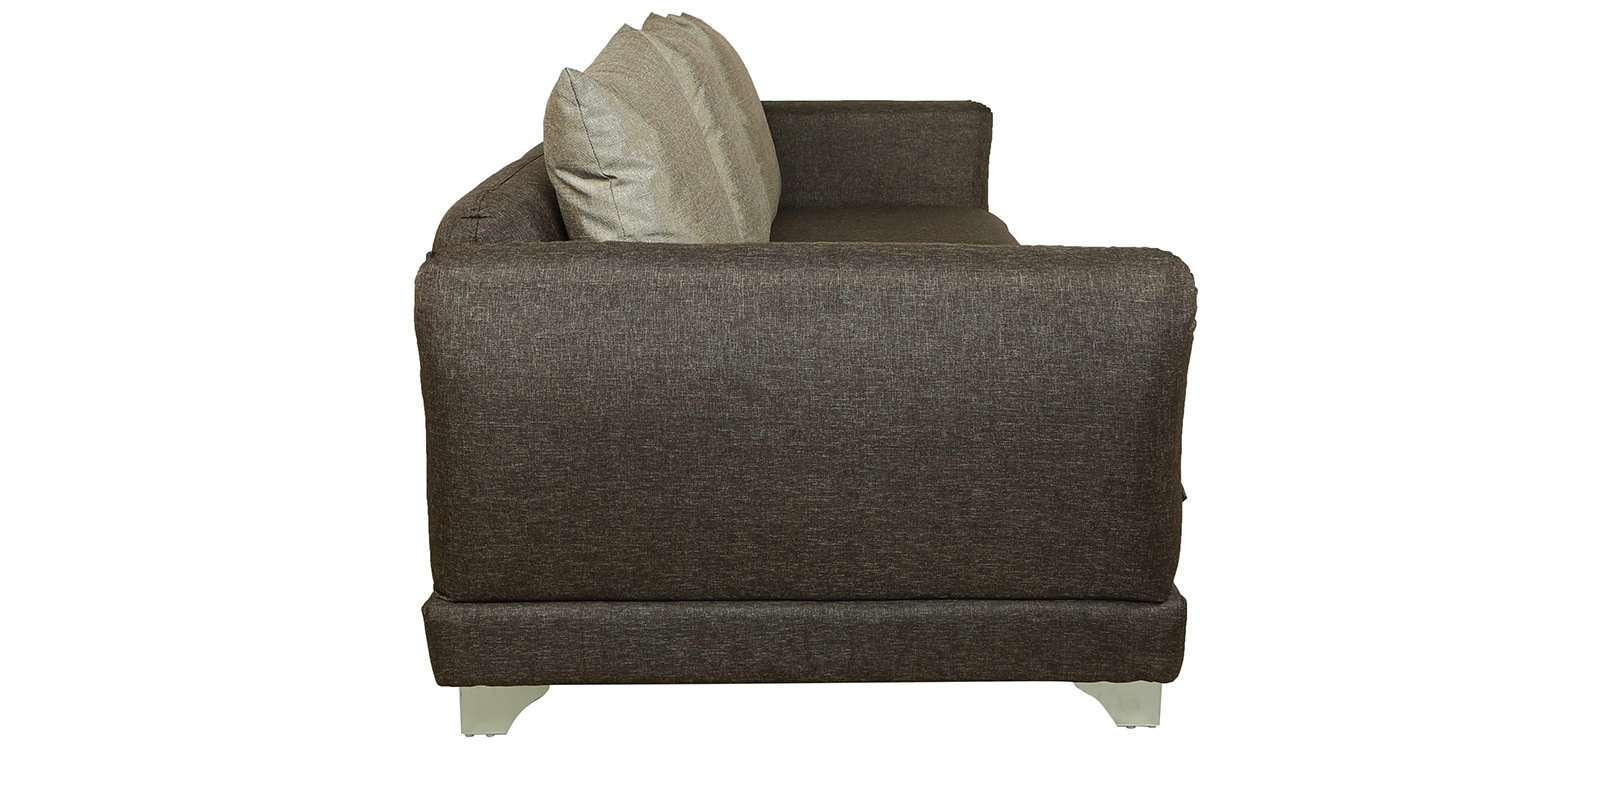Exclusive Three Seater Sofa in Dark Grey Colour by Parin: (399, 5, 1215, 763)
